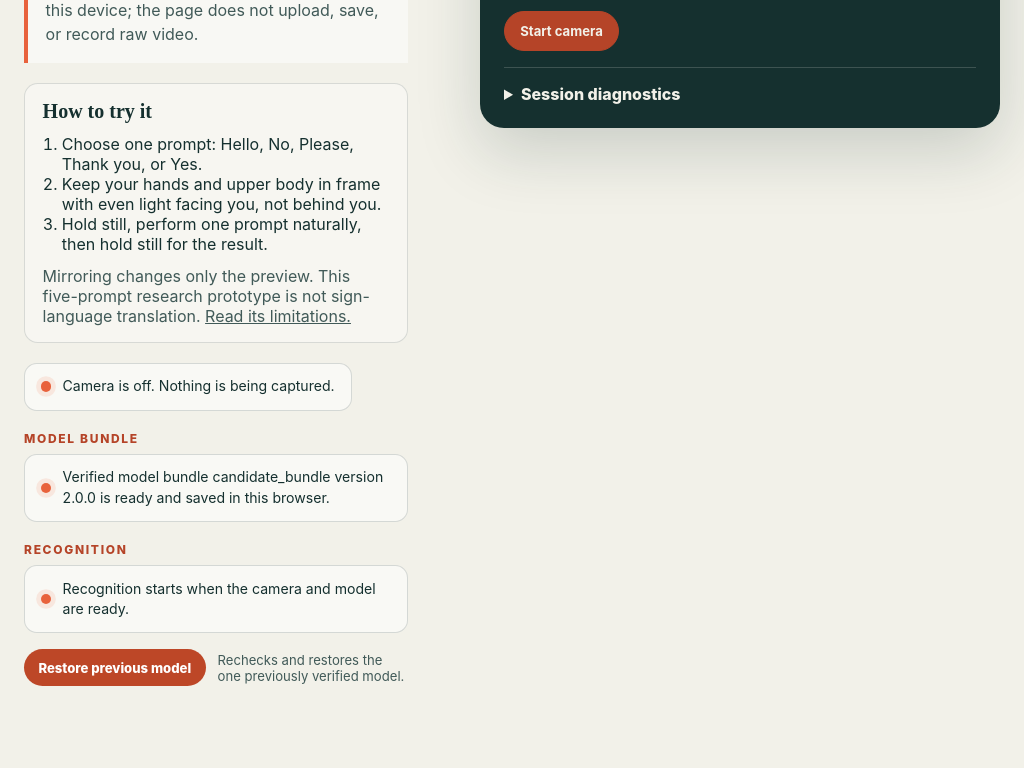
it: model bundle status › keeps the current bundle when rollback fails
(page scrolled)
Click the button "Restore previous model".
click(115, 668)  # box x1=24 y1=649 x2=206 y2=686
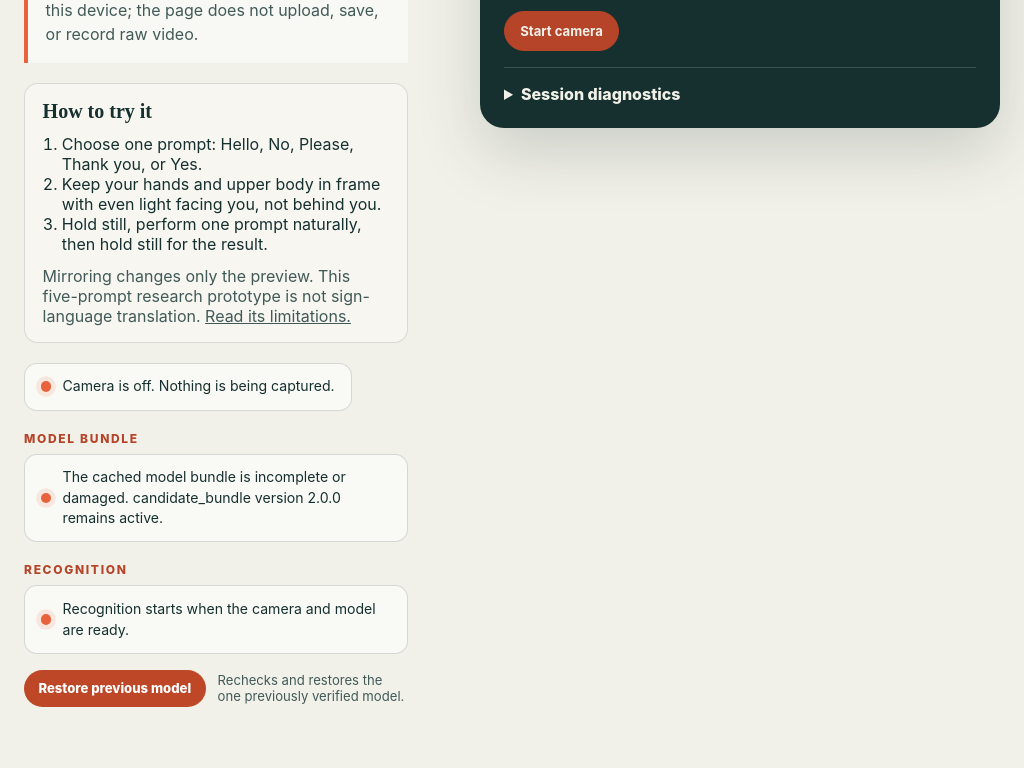
Check: the text "incomplete or damaged" is shown, box x1=63 y1=468 x2=346 y2=526
Click the heading "Session diagnostics".
click(601, 94)  # box x1=521 y1=84 x2=680 y2=104
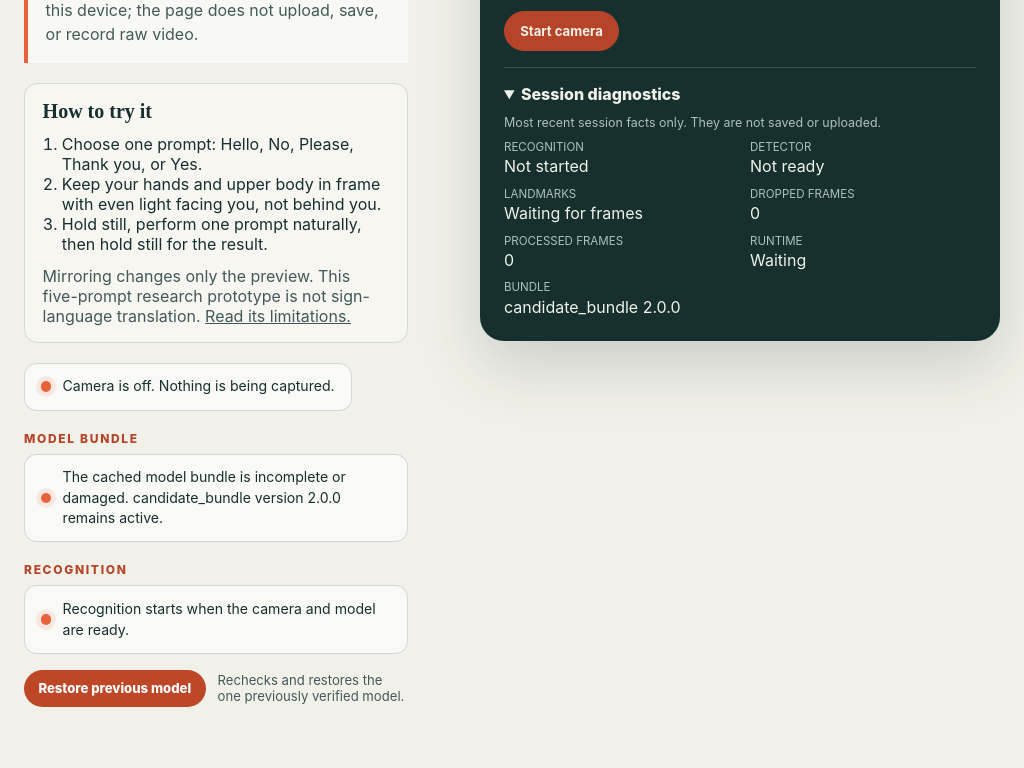
Check: the text "candidate_bundle 2.0.0" is shown, box x1=504 y1=297 x2=681 y2=317
